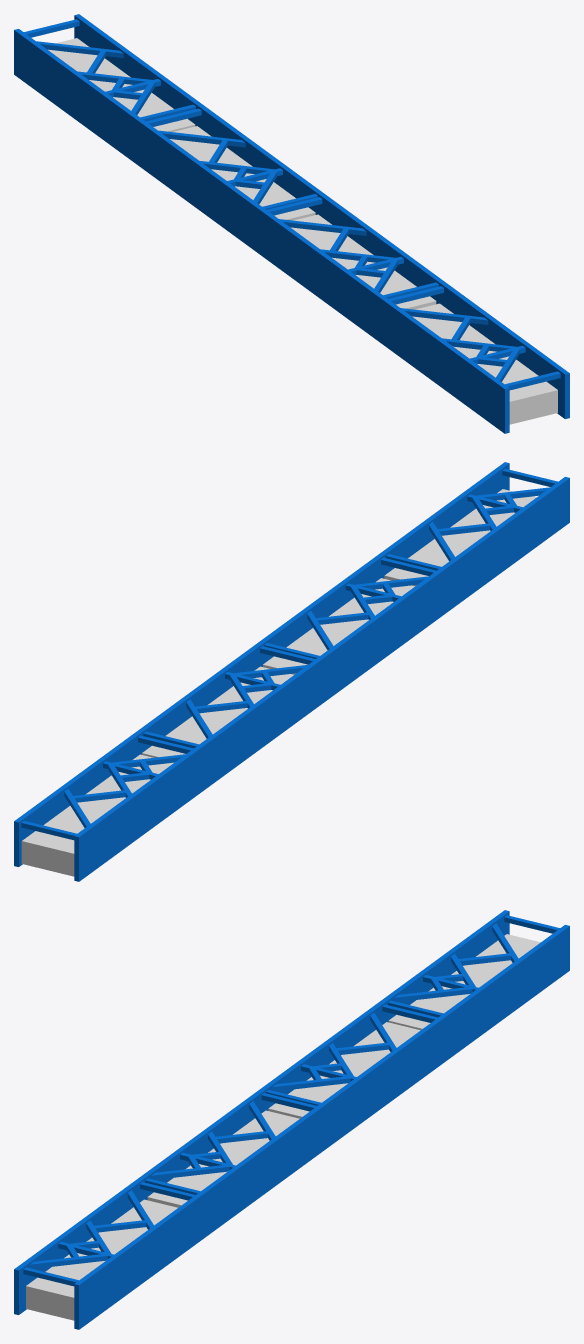
Rendered from mazestraight.fbx.
The picture shows the model from 3 angles, top to bottom: view 1: azimuth 30°, elevation 25°; view 2: azimuth 150°, elevation 25°; view 3: azimuth 330°, elevation 25°; orthographic projection.
Parts seen in each view (by area): view 1: pasted__group19_pasted__group18_pasted__pasted__group16_past; view 2: pasted__group19_pasted__group18_pasted__pasted__group16_past; view 3: pasted__group19_pasted__group18_pasted__pasted__group16_past.
Part boxes in pixels (left/top/right/bottom): pasted__group19_pasted__group18_pasted__pasted__group16_past: left=14, top=14, right=569, bottom=433; pasted__group19_pasted__group18_pasted__pasted__group16_past: left=14, top=462, right=569, bottom=881; pasted__group19_pasted__group18_pasted__pasted__group16_past: left=14, top=910, right=569, bottom=1329.
Bounding box in the file's own units: 116 × 75.83 × 1509.
